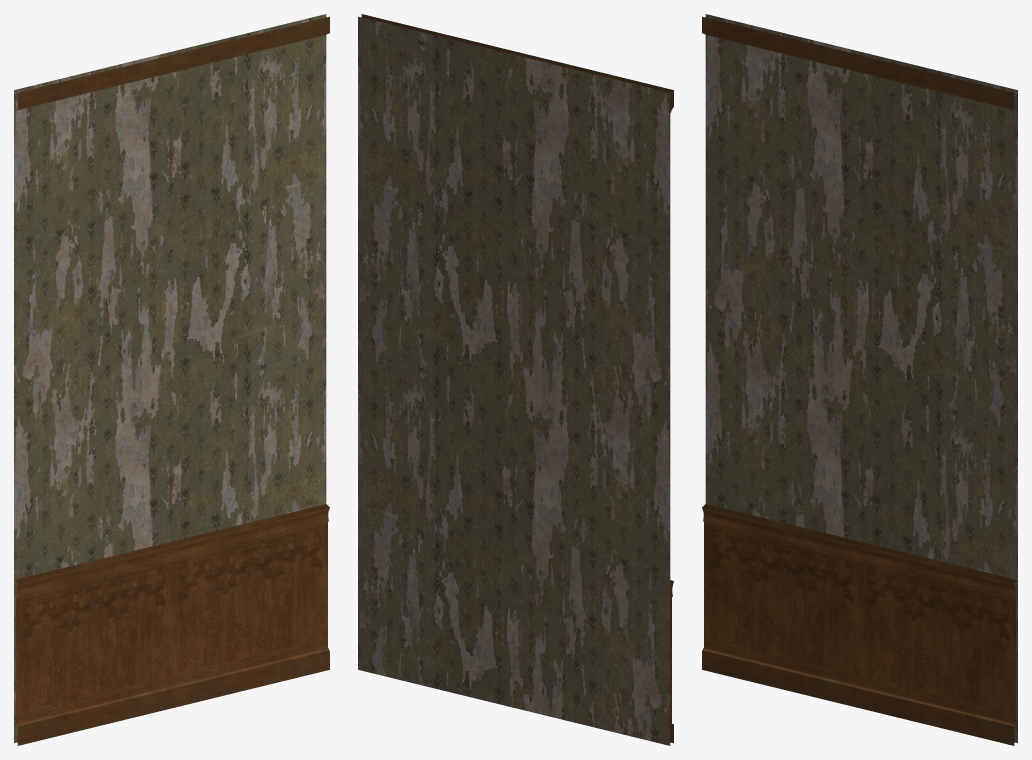
The model's file is SM_Wall_Paper_01.fbx.
3 views of the same model, side by side, from view 1: azimuth 30°, elevation 25°; view 2: azimuth 150°, elevation 25°; view 3: azimuth 330°, elevation 25° (orthographic).
Visible parts, largest first — view 1: SM_Wall_Paper_01; view 2: SM_Wall_Paper_01; view 3: SM_Wall_Paper_01.
Boxes of the visible parts, box(x1,y1,x2,y2) form: SM_Wall_Paper_01: box(14, 14, 329, 745); SM_Wall_Paper_01: box(358, 14, 673, 745); SM_Wall_Paper_01: box(702, 14, 1017, 745).
Bounding box in the file's own units: 200 × 400 × 4.
